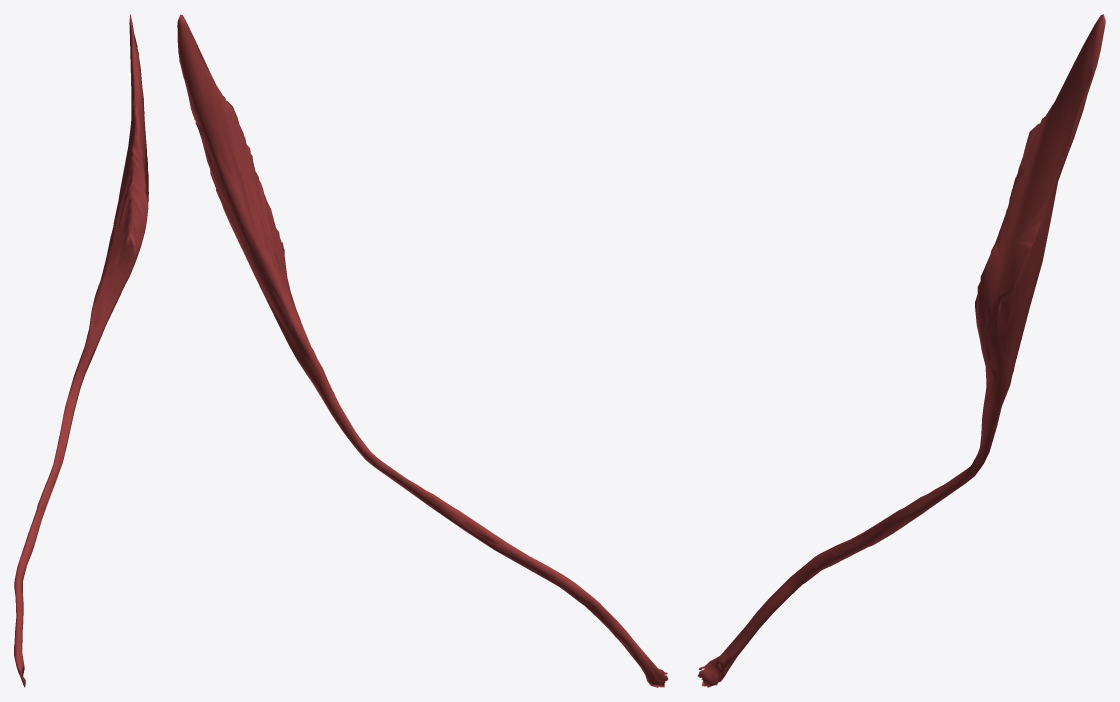
Rendered from extensor-pollicis-longus-r.glb.
The picture shows the model from 3 angles, left to right: view 1: azimuth 30°, elevation 25°; view 2: azimuth 150°, elevation 25°; view 3: azimuth 270°, elevation 25°; orthographic projection. The views are drawn at different scales.
Parts seen in each view (by area): view 1: Extensor pollicis longus.r; view 2: Extensor pollicis longus.r; view 3: Extensor pollicis longus.r.
Boxes of the visible parts, x1,y1,x2,y2 form: Extensor pollicis longus.r: (14,14,148,687); Extensor pollicis longus.r: (177,14,668,687); Extensor pollicis longus.r: (697,14,1105,687).
Size of the model in its own units: 0.0982 by 0.2091 by 0.0906.
